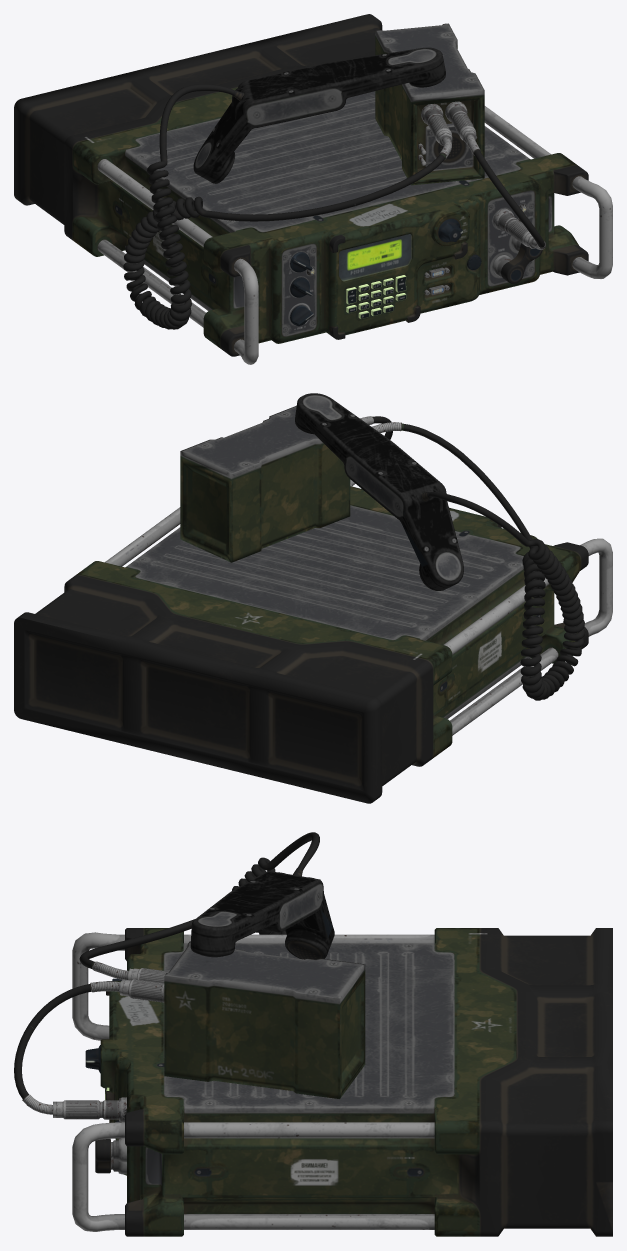
Rendered from military_radio.glb.
The picture shows the model from 3 angles, top to bottom: view 1: azimuth 30°, elevation 25°; view 2: azimuth 150°, elevation 25°; view 3: azimuth 270°, elevation 25°; orthographic projection. The views are drawn at different scales.
Parts seen in each view (by area): view 1: final_low, glass_low; view 2: final_low; view 3: final_low.
Boxes of the visible parts, box(x1,y1,x2,y2) form: final_low: box(14, 14, 612, 364); glass_low: box(339, 234, 411, 280); final_low: box(14, 393, 612, 803); final_low: box(14, 832, 612, 1236).
Size of the model in its own units: 12.23 by 6.62 by 14.28.
Materials: 1 (1 with a texture image).
